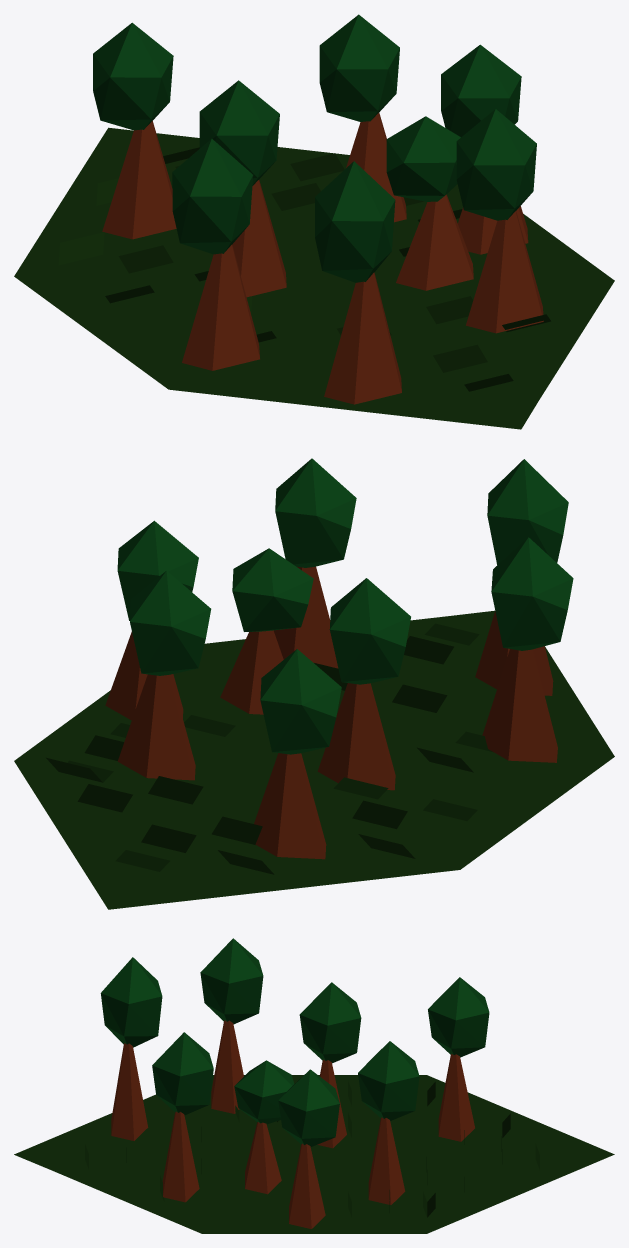
File: lumber.fbx
3 views of the same model, one above another, from view 1: azimuth 30°, elevation 25°; view 2: azimuth 150°, elevation 25°; view 3: azimuth 270°, elevation 25° (orthographic). The views are drawn at different scales.
Visible parts, largest first — view 1: Plane, Icosphere.001, Icosphere.005, Icosphere.003, Icosphere.004, Icosphere.006, Icosphere, Icosphere.002, Icosphere.007; view 2: Plane, Icosphere.005, Icosphere, Icosphere.004, Icosphere.002, Icosphere.003, Icosphere.006, Icosphere.001, Icosphere.007; view 3: Plane, Icosphere.001, Icosphere.005, Icosphere.003, Icosphere.004, Icosphere, Icosphere.007, Icosphere.002, Icosphere.006.
Part boxes in pixels (x1=…): Plane: x1=14, y1=127, x2=614, y2=429; Icosphere.001: x1=315, y1=161, x2=401, y2=404; Icosphere.005: x1=172, y1=138, x2=259, y2=370; Icosphere.003: x1=456, y1=109, x2=543, y2=333; Icosphere.004: x1=93, y1=22, x2=176, y2=239; Icosphere.006: x1=386, y1=116, x2=473, y2=290; Icosphere: x1=319, y1=14, x2=406, y2=222; Icosphere.002: x1=199, y1=80, x2=286, y2=297; Icosphere.007: x1=441, y1=44, x2=528, y2=254; Plane: x1=14, y1=610, x2=614, y2=909; Icosphere.005: x1=482, y1=537, x2=573, y2=762; Icosphere: x1=117, y1=570, x2=211, y2=780; Icosphere.004: x1=254, y1=649, x2=341, y2=859; Icosphere.002: x1=317, y1=578, x2=410, y2=790; Icosphere.003: x1=273, y1=458, x2=356, y2=668; Icosphere.006: x1=220, y1=548, x2=313, y2=714; Icosphere.001: x1=475, y1=459, x2=568, y2=695; Icosphere.007: x1=105, y1=520, x2=198, y2=720; Plane: x1=14, y1=1075, x2=614, y2=1233; Icosphere.001: x1=100, y1=957, x2=162, y2=1140; Icosphere.005: x1=200, y1=938, x2=263, y2=1113; Icosphere.003: x1=152, y1=1032, x2=213, y2=1202; Icosphere.004: x1=428, y1=977, x2=489, y2=1141; Icosphere: x1=358, y1=1041, x2=419, y2=1204; Icosphere.007: x1=278, y1=1069, x2=339, y2=1228; Icosphere.002: x1=299, y1=982, x2=361, y2=1148; Icosphere.006: x1=234, y1=1060, x2=294, y2=1194.
Bounding box in the file's own units: 1.25 × 0.6143 × 2.
